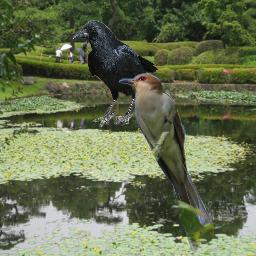Crow: (71, 20, 163, 127)
Cuckoo: (119, 73, 214, 253)
